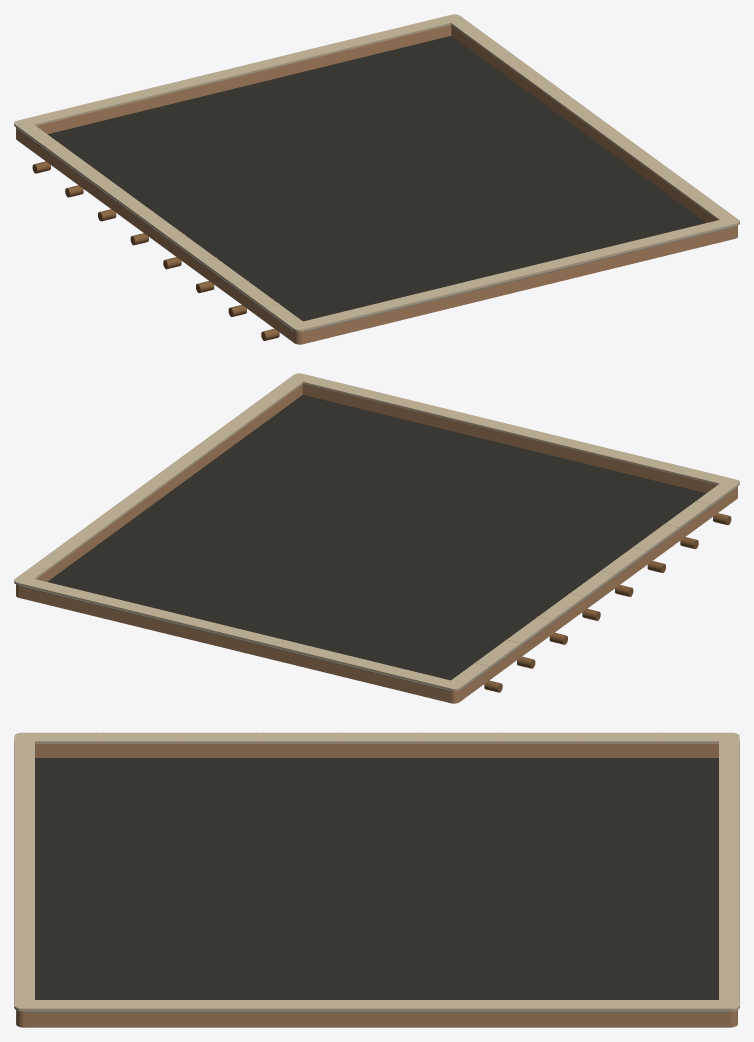
Rendered from SM_Homes_H01_Roof.fbx.
3 renders of one model, top to bottom at view 1: azimuth 30°, elevation 25°; view 2: azimuth 150°, elevation 25°; view 3: azimuth 270°, elevation 25°, orthographic. The views are drawn at different scales.
Visible parts, largest first — view 1: SM_Homes_H01_Roof; view 2: SM_Homes_H01_Roof; view 3: SM_Homes_H01_Roof.
Boxes of the visible parts, bbox=[...] form: SM_Homes_H01_Roof: bbox=[14, 14, 739, 344]; SM_Homes_H01_Roof: bbox=[14, 373, 739, 703]; SM_Homes_H01_Roof: bbox=[14, 732, 739, 1027].
Size of the model in its own units: 9.26 by 10.06 by 0.479.
